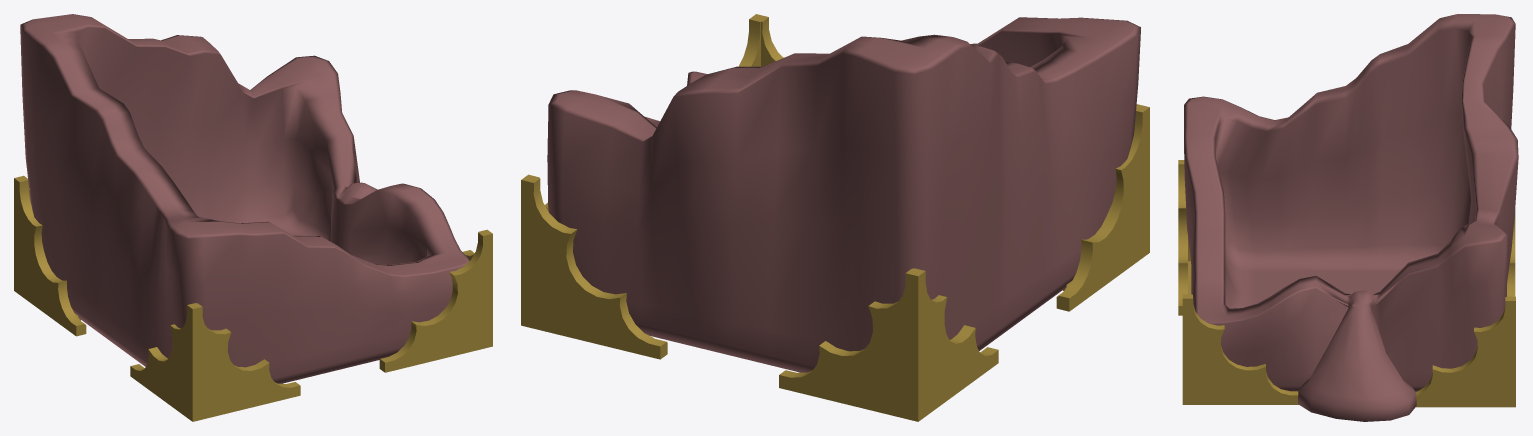
The model's file is firbox_0.1cutReUV2.fbx.
3 views of the same model, side by side, from view 1: azimuth 30°, elevation 25°; view 2: azimuth 150°, elevation 25°; view 3: azimuth 270°, elevation 25° (orthographic). The views are drawn at different scales.
Visible parts, largest first — view 1: pCube27, pCube35, pCube36, pCube34; view 2: pCube27, pCube34, pCube33, pCube35, pCube36; view 3: pCube27, pCube36, pCube33, pCube35, pCube34.
Part boxes in pixels (x1,y1,x2,y2): pCube27: [20, 14, 469, 383]; pCube35: [130, 303, 300, 421]; pCube36: [379, 229, 492, 372]; pCube34: [14, 175, 86, 336]; pCube27: [547, 17, 1140, 372]; pCube34: [779, 268, 998, 421]; pCube33: [521, 174, 667, 359]; pCube35: [1056, 104, 1149, 311]; pCube36: [738, 14, 783, 66]; pCube27: [1184, 14, 1518, 421]; pCube36: [1182, 294, 1298, 404]; pCube33: [1416, 296, 1515, 407]; pCube35: [1178, 160, 1191, 315]; pCube34: [1507, 209, 1515, 296].
Bounding box in the file's own units: 112 × 82.18 × 99.8.
